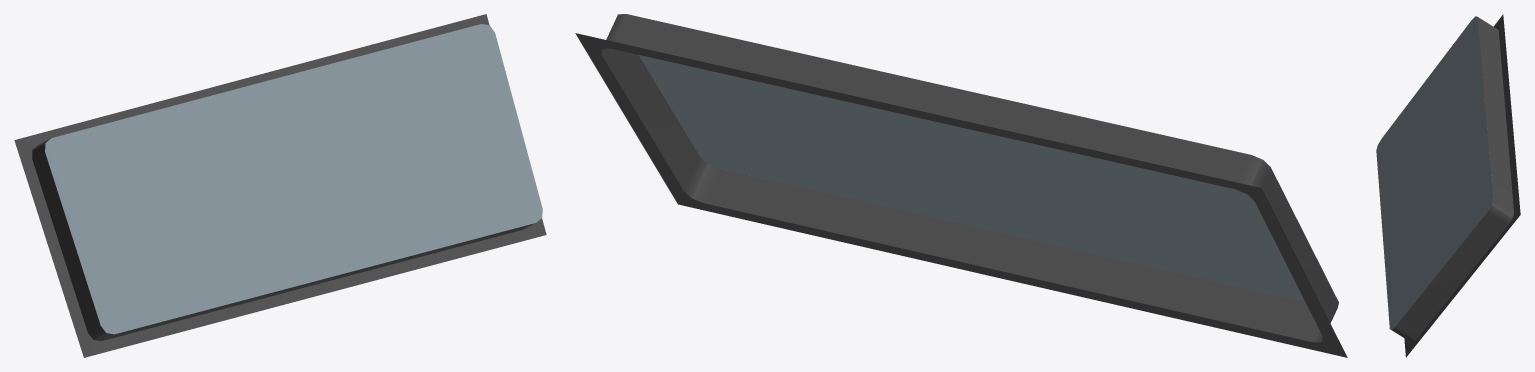
File: small window.fbx
The picture shows the model from 3 angles, left to right: view 1: azimuth 30°, elevation 25°; view 2: azimuth 150°, elevation 25°; view 3: azimuth 270°, elevation 25°; orthographic projection. The views are drawn at different scales.
Parts seen in each view (by area): view 1: small_window_galss, small_window_frame; view 2: small_window_frame, small_window_galss; view 3: small_window_galss, small_window_frame.
Part boxes in pixels (box(x1,y1,x2,y2)): small_window_galss: box(45, 24, 542, 334); small_window_frame: box(14, 14, 546, 357); small_window_frame: box(575, 14, 1347, 357); small_window_galss: box(617, 14, 1305, 302); small_window_galss: box(1376, 16, 1492, 329); small_window_frame: box(1391, 14, 1520, 357).
Size of the model in its own units: 2.3 by 0.8143 by 0.6952.
